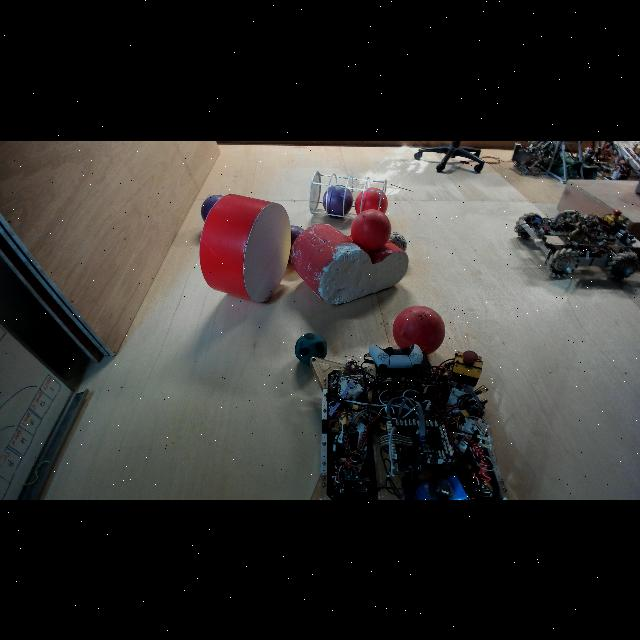P: (322, 184, 354, 218), (200, 193, 228, 223), (279, 225, 311, 248)
R: (391, 303, 447, 357), (350, 206, 392, 252), (354, 186, 388, 218)
S: (307, 169, 388, 223)
